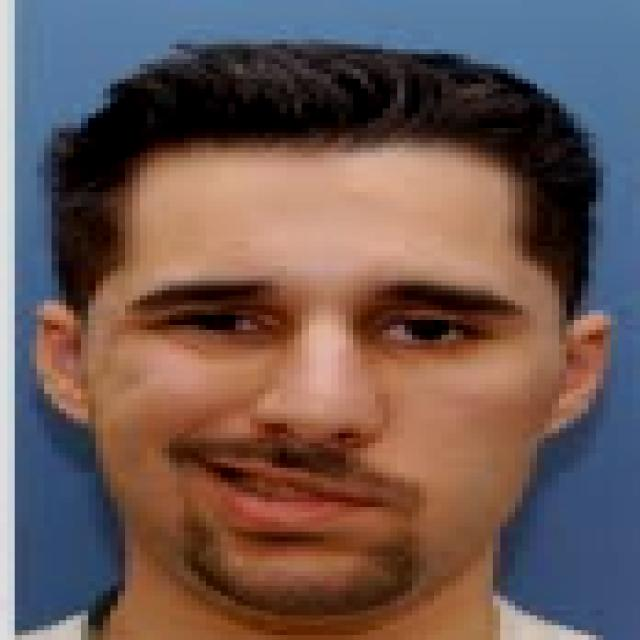stroke_face: (83, 82, 540, 637)
